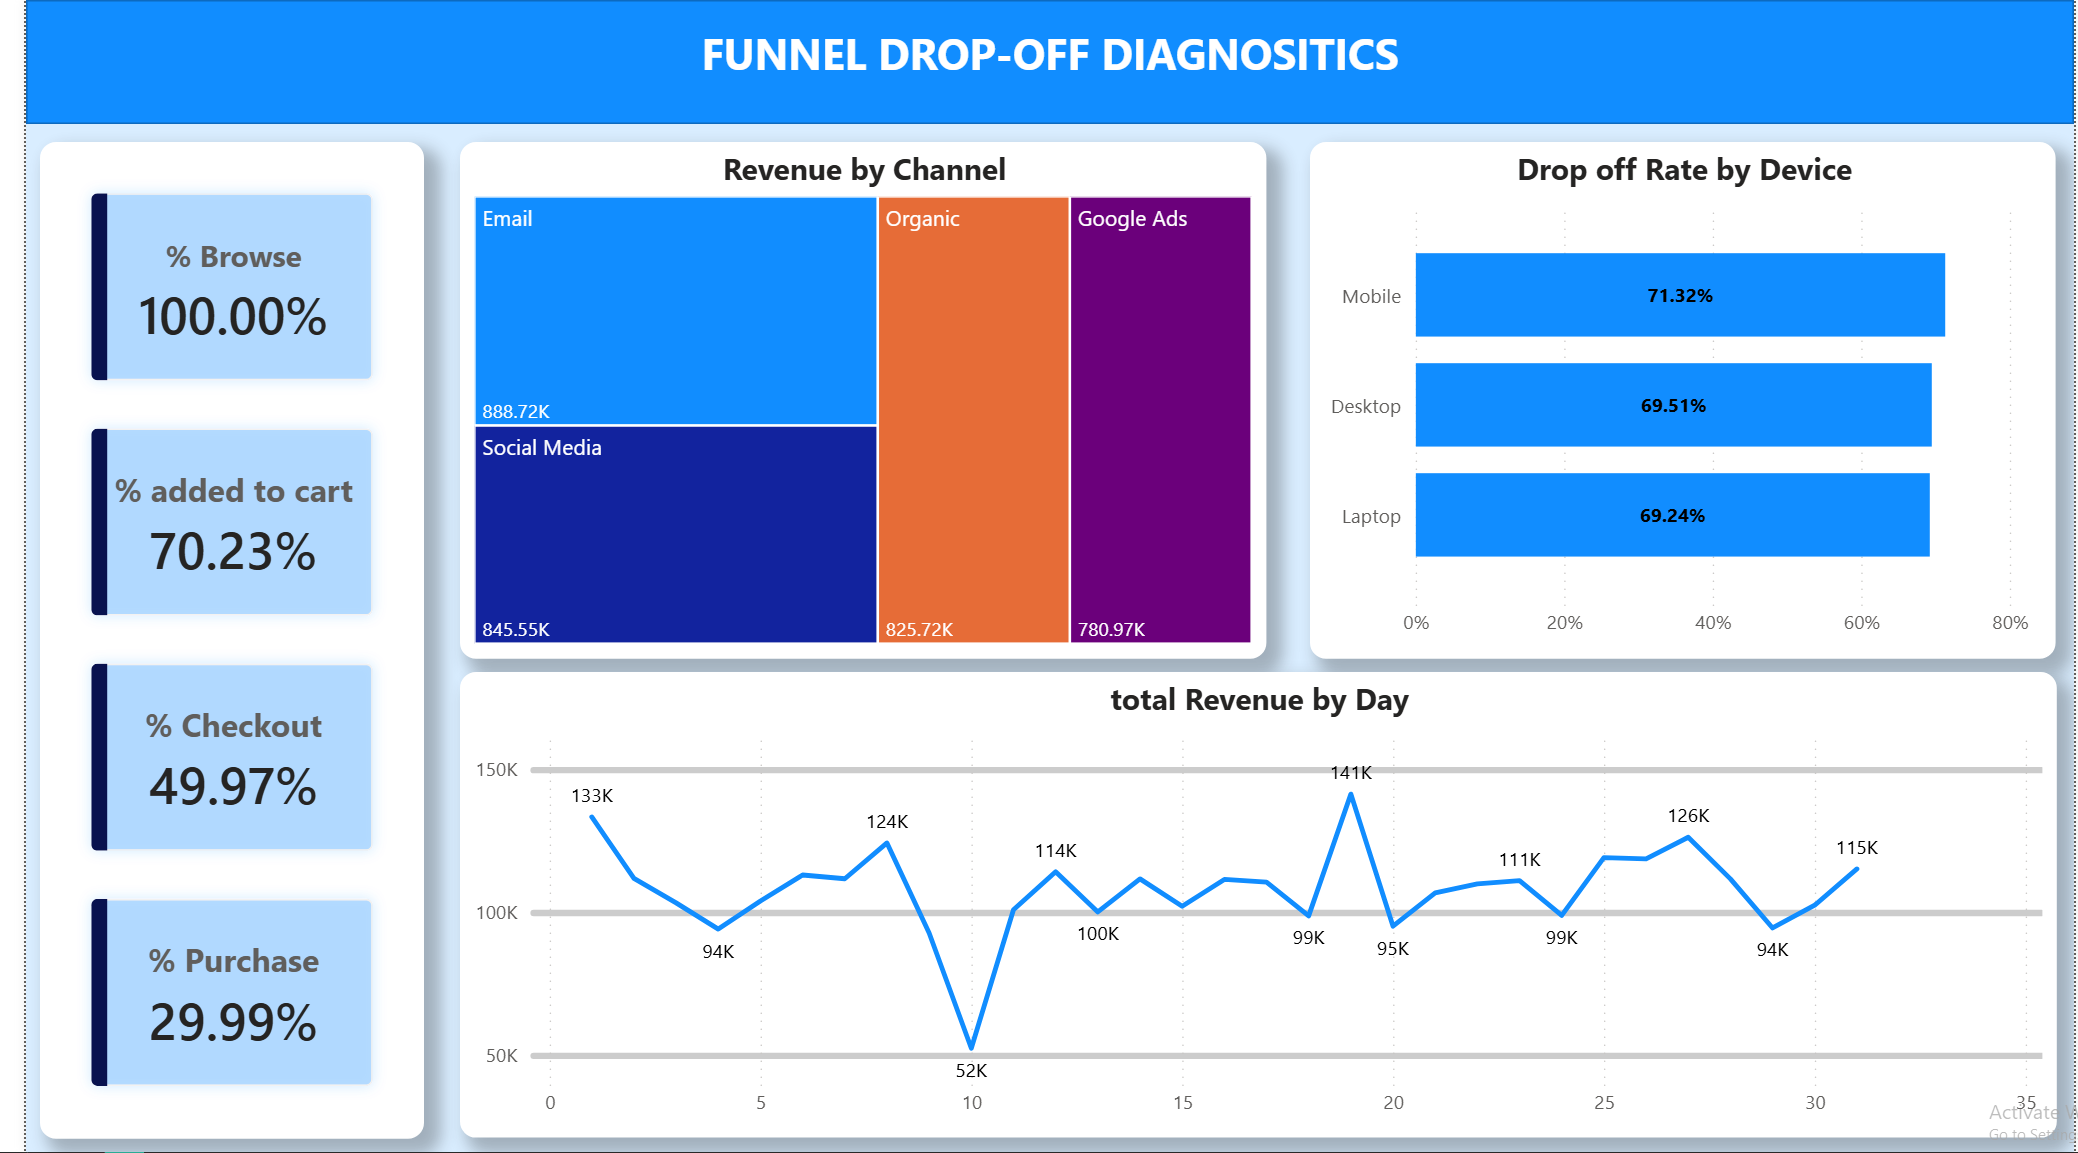

This screenshot's page, from the dashboard's own definition file:
{"tool":"powerbi","page":{"name":"Page 2","canvas":[1280,720],"ordinal":1},"visuals":[{"type":"shape","box":[0,0,1280,77.5],"z":0},{"type":"textbox","box":[0,10,1280,56.2],"z":1},{"type":"cardVisual","fields":{"Data":["Measures Table.percentage of browse","Measures Table.percentage of atc","Measures Table.percentage of checkout","Measures Table.percentage of purchase"]},"box":[8.8,88.8,240,622.5],"z":2},{"type":"treemap","title":"Revenue by Channel","fields":{"Group":["funnel_analysis_data.Channel"],"Values":["Sum(funnel_analysis_data.Revenue)"]},"box":[271.2,88.8,503.8,322.5],"z":3},{"type":"clusteredBarChart","fields":{"Category":["funnel_analysis_data.Device"],"Y":["Measures Table.Drop off Rate"]},"box":[802.5,88.8,466.2,322.5],"z":4},{"type":"lineChart","fields":{"Category":["funnel_analysis_data.Date.Variation.Date Hierarchy.Day"],"Y":["Measures Table.total Revenue"]},"box":[271.2,420,997.5,291.2],"z":5}]}

Visuals, with their boxes in screenshot pixels (x1, y1, x2, y2), scaled from the page's 1280x720 canvas onto the 2078x1153 screenshot:
shape: select_region(0, 0, 2077, 124)
textbox: select_region(0, 16, 2077, 106)
cardVisual - Measures Table.percentage of browse x Measures Table.percentage of atc: select_region(14, 142, 404, 1139)
"Revenue by Channel" treemap: select_region(440, 142, 1258, 659)
clusteredBarChart - funnel_analysis_data.Device x Measures Table.Drop off Rate: select_region(1303, 142, 2060, 659)
lineChart - funnel_analysis_data.Date.Variation.Date Hierarchy.Day x Measures Table.total Revenue: select_region(440, 673, 2060, 1139)
